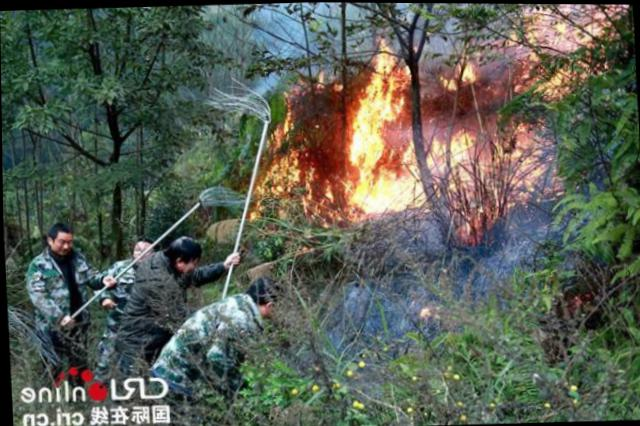fire: (244, 1, 639, 239)
